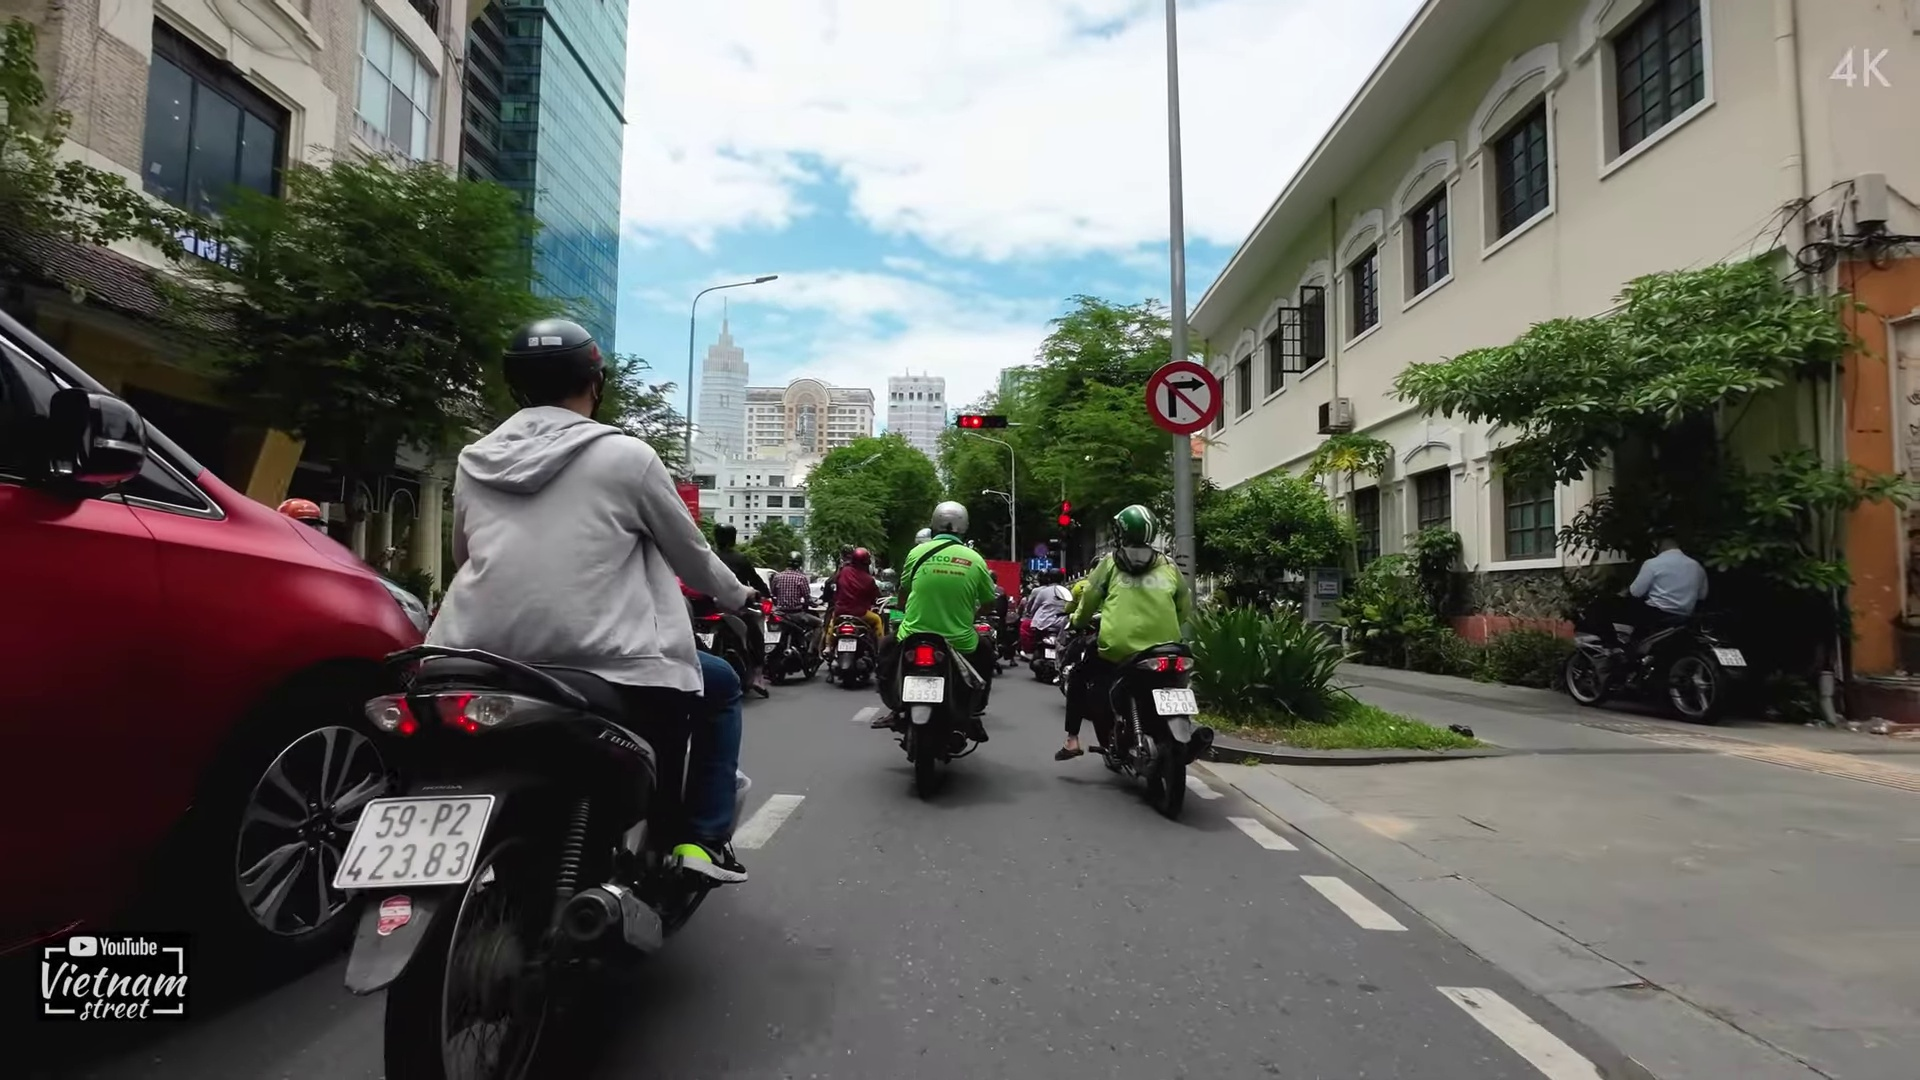cam_re_phai: (1142, 355, 1222, 439)
